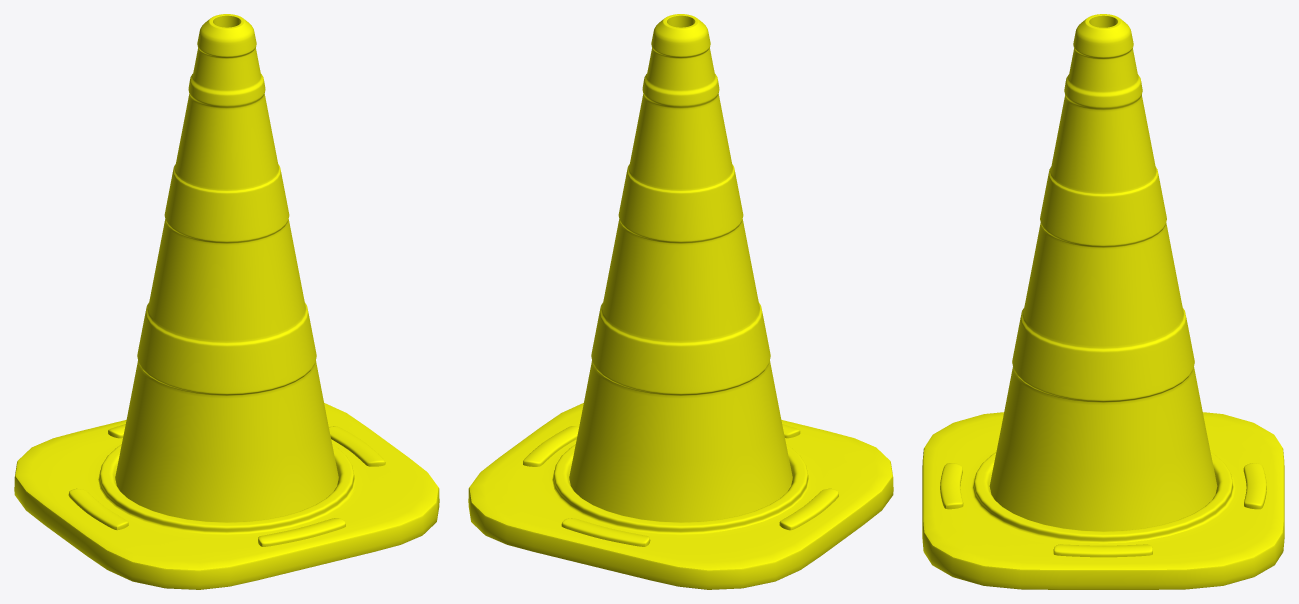
The picture shows the model from 3 angles, left to right: view 1: azimuth 30°, elevation 25°; view 2: azimuth 150°, elevation 25°; view 3: azimuth 270°, elevation 25°; orthographic projection.
Visible parts, largest first — view 1: cone; view 2: cone; view 3: cone.
Boxes of the visible parts, left/top/right/bottom form: cone: left=14, top=14, right=439, bottom=589; cone: left=468, top=14, right=893, bottom=589; cone: left=922, top=14, right=1284, bottom=589.
Bounding box in the file's own units: 0.457 × 0.6482 × 0.4357.
1 material, 1 textured.
